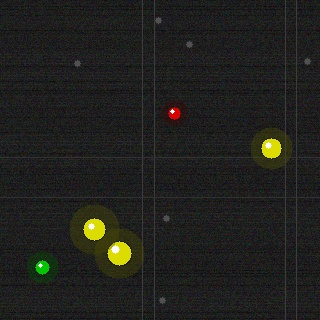green_normal: (33, 258, 51, 276)
red_fault: (166, 105, 182, 121)
yellow_warning: (105, 239, 133, 267), (81, 216, 107, 242), (259, 136, 283, 160)
